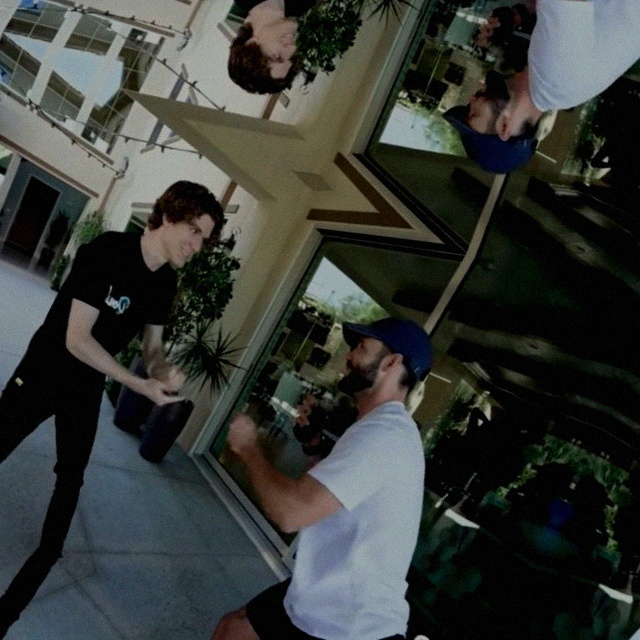Rock: (217, 409, 263, 459), (149, 358, 190, 396)
